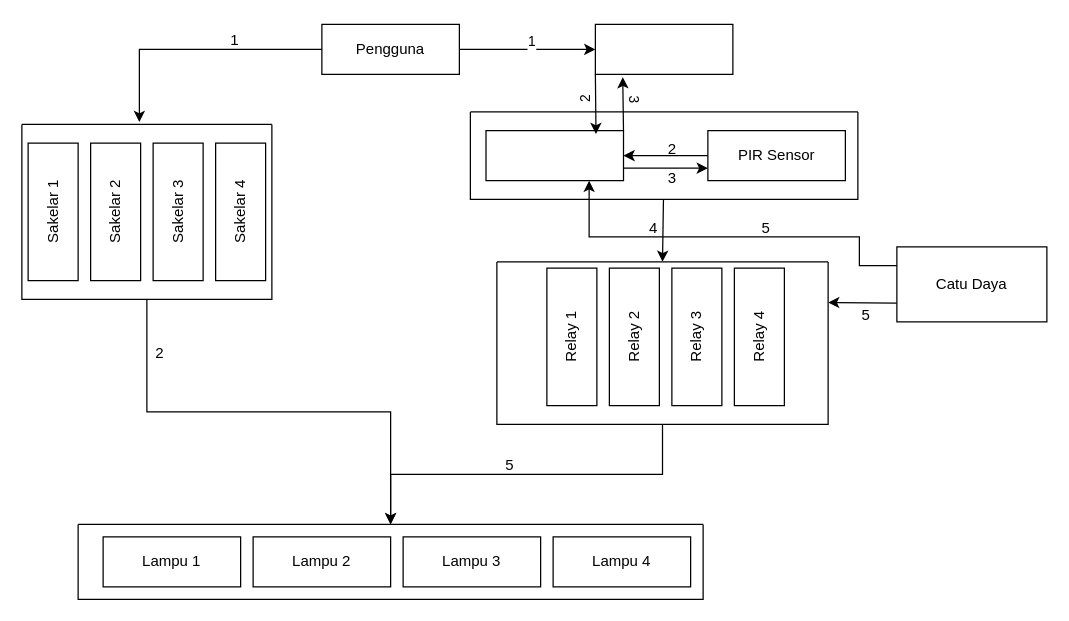
This 1069x621 diagram has some shape labels left out. Each missing label, with the box of its shape:
Blynk: (594, 23, 733, 74)
NodeMCU ESP32: (485, 129, 624, 181)
